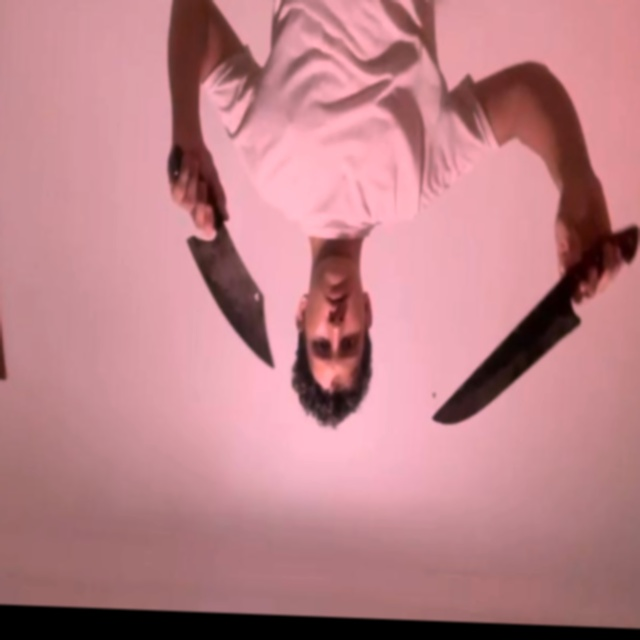Sharp-Object: (432, 311, 581, 430), (181, 234, 280, 371)
